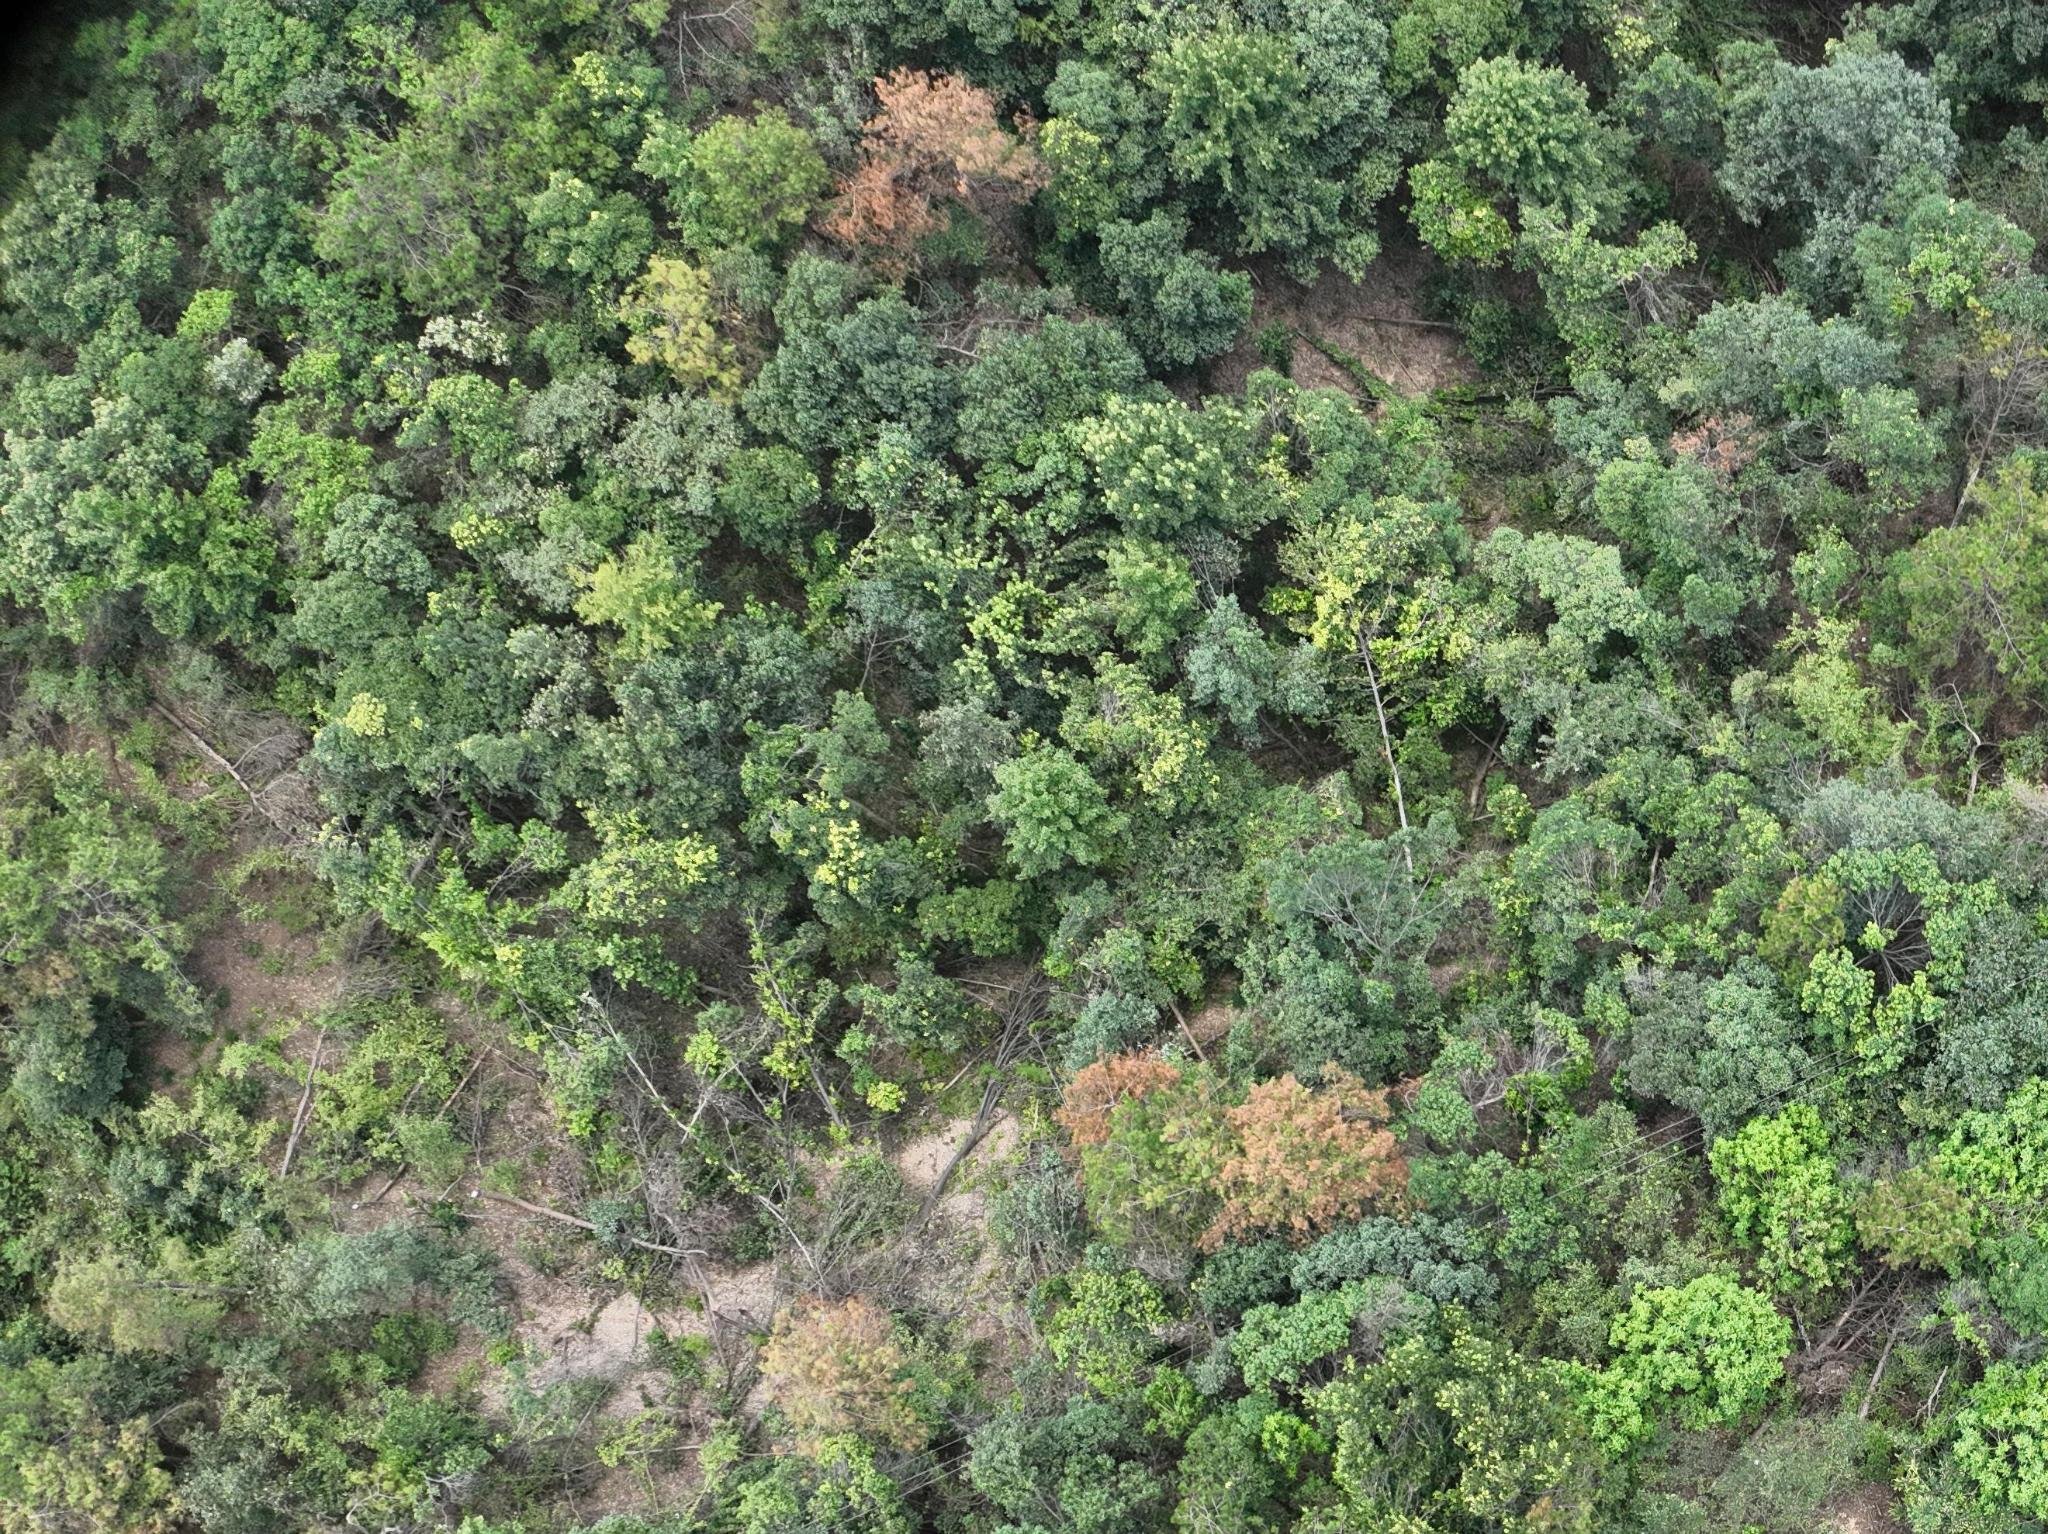heavy: (822, 56, 1039, 261), (1215, 1060, 1415, 1246), (748, 1292, 915, 1465), (1049, 1046, 1168, 1154)
